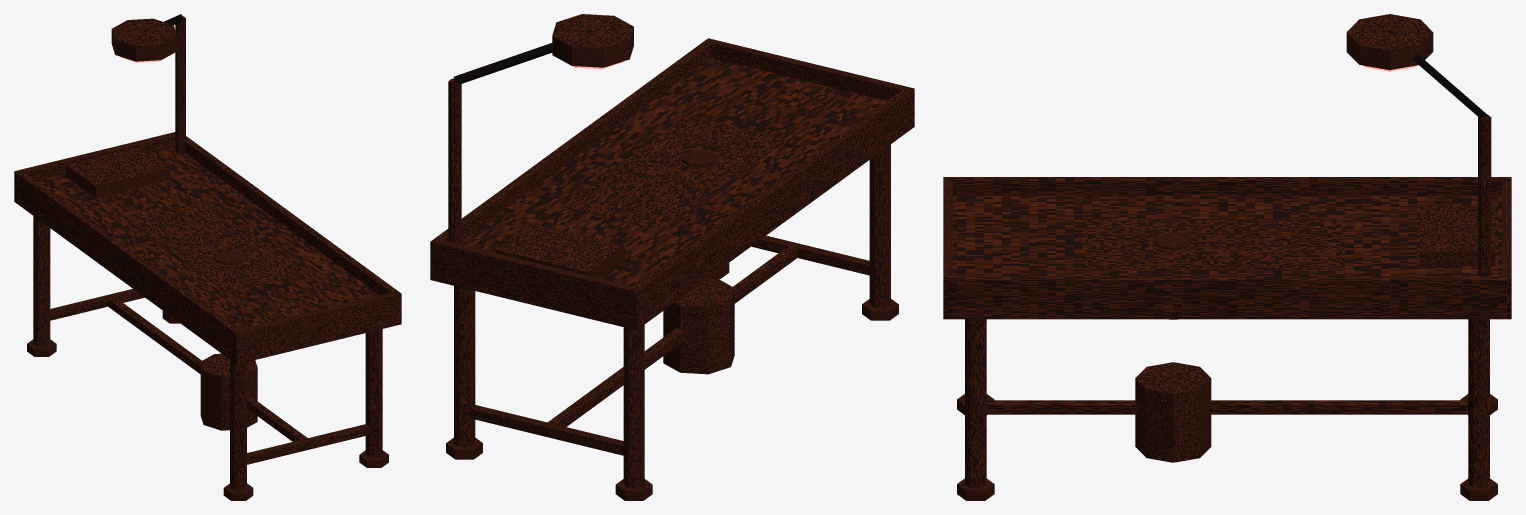
File: autopsy_table_derelict_decay.glb
3 renders of one model, left to right at view 1: azimuth 30°, elevation 25°; view 2: azimuth 150°, elevation 25°; view 3: azimuth 270°, elevation 25°, orthographic. The views are drawn at different scales.
Parts seen in each view (by area): view 1: autopsy_table_derelict_decay; view 2: autopsy_table_derelict_decay; view 3: autopsy_table_derelict_decay.
Boxes of the visible parts, box(x1,y1,x2,y2) form: autopsy_table_derelict_decay: box(14, 14, 401, 500); autopsy_table_derelict_decay: box(430, 14, 914, 500); autopsy_table_derelict_decay: box(943, 14, 1511, 500).
Bounding box in the file's own units: 0.9 × 1.72 × 2.1.
Materials: 5 (5 with a texture image).
